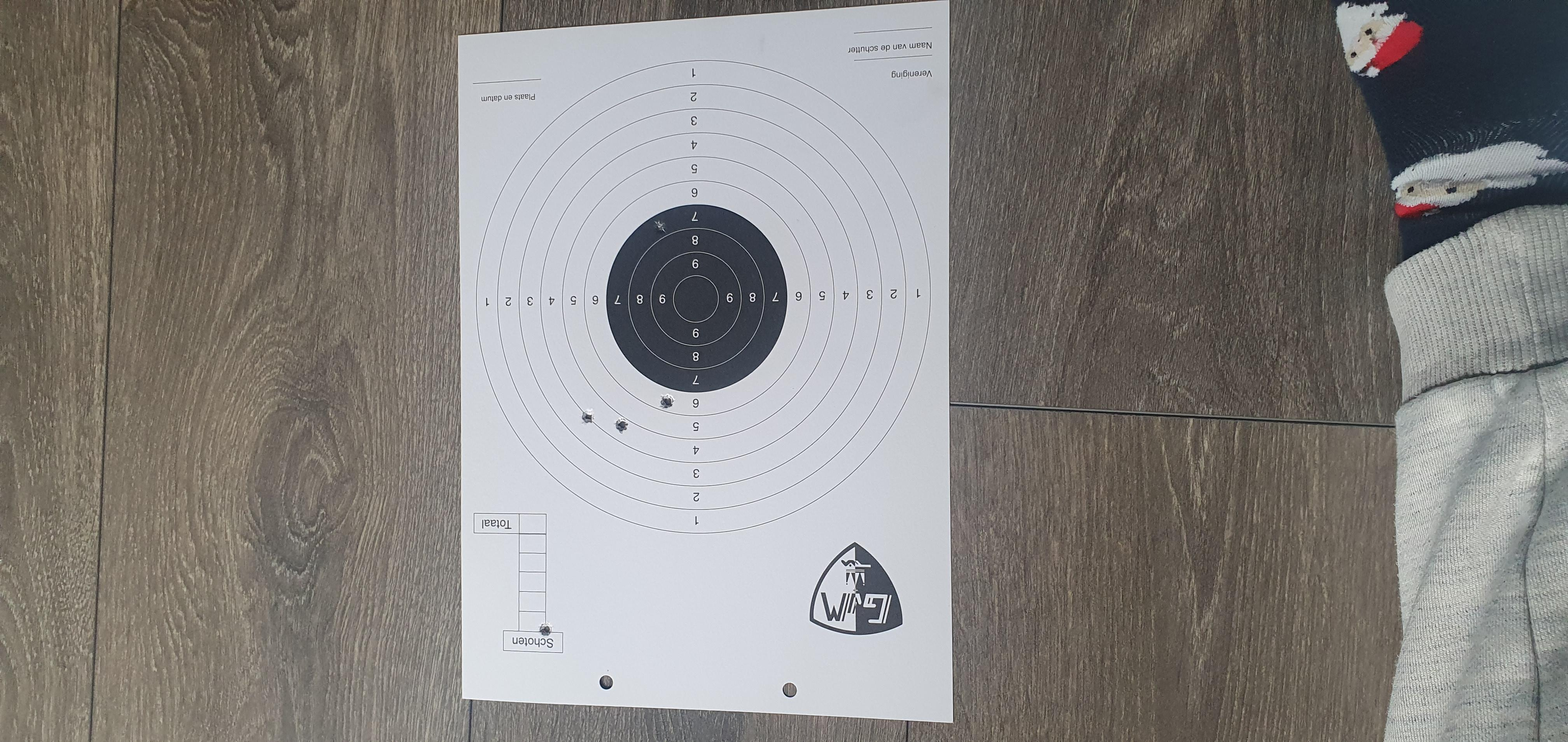hole: (700, 312, 739, 320), (669, 274, 708, 281), (650, 291, 685, 298), (222, 255, 256, 262), (1073, 309, 1105, 315)
